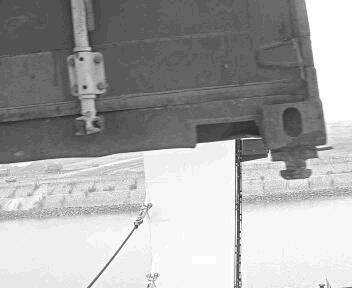twist_lock_1: (167, 178, 262, 243)
